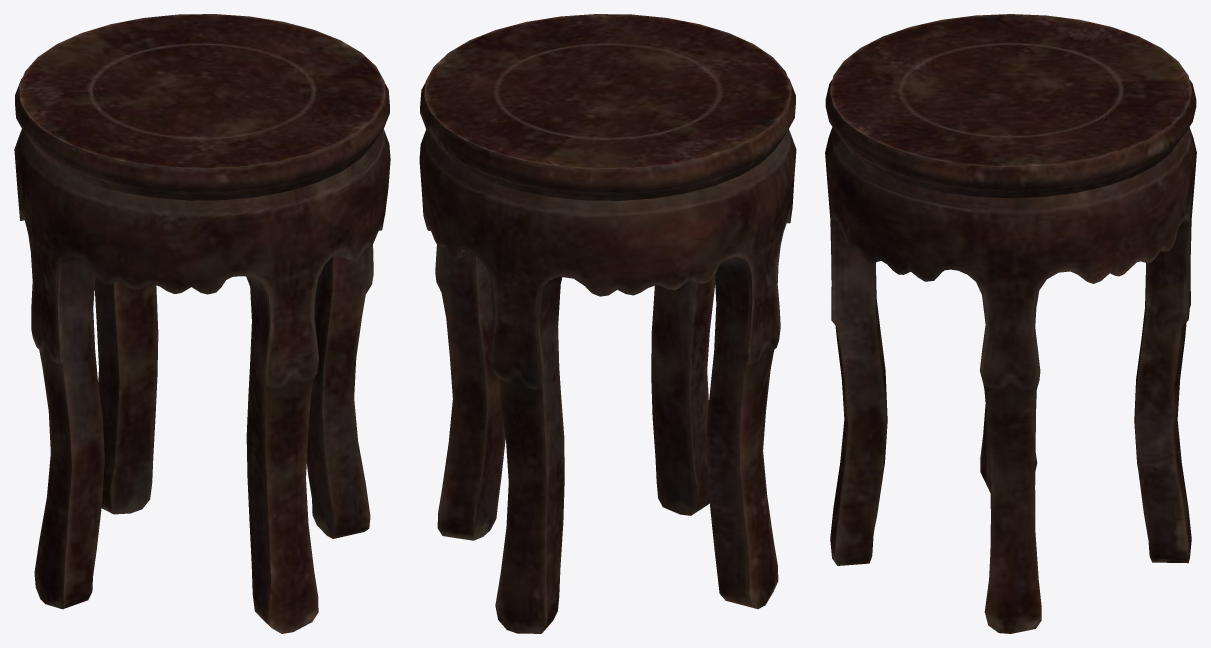
The model's file is table_long.glb.
3 views of the same model, side by side, from view 1: azimuth 30°, elevation 25°; view 2: azimuth 150°, elevation 25°; view 3: azimuth 270°, elevation 25° (orthographic).
Visible parts, largest first — view 1: WoodenTable_02; view 2: WoodenTable_02; view 3: WoodenTable_02.
Boxes of the visible parts, left/top/right/bottom form: WoodenTable_02: left=14, top=14, right=390, bottom=633; WoodenTable_02: left=419, top=14, right=796, bottom=633; WoodenTable_02: left=825, top=14, right=1196, bottom=633.
Size of the model in its own units: 0.3007 by 0.4177 by 0.3007.
1 material, 1 textured.
